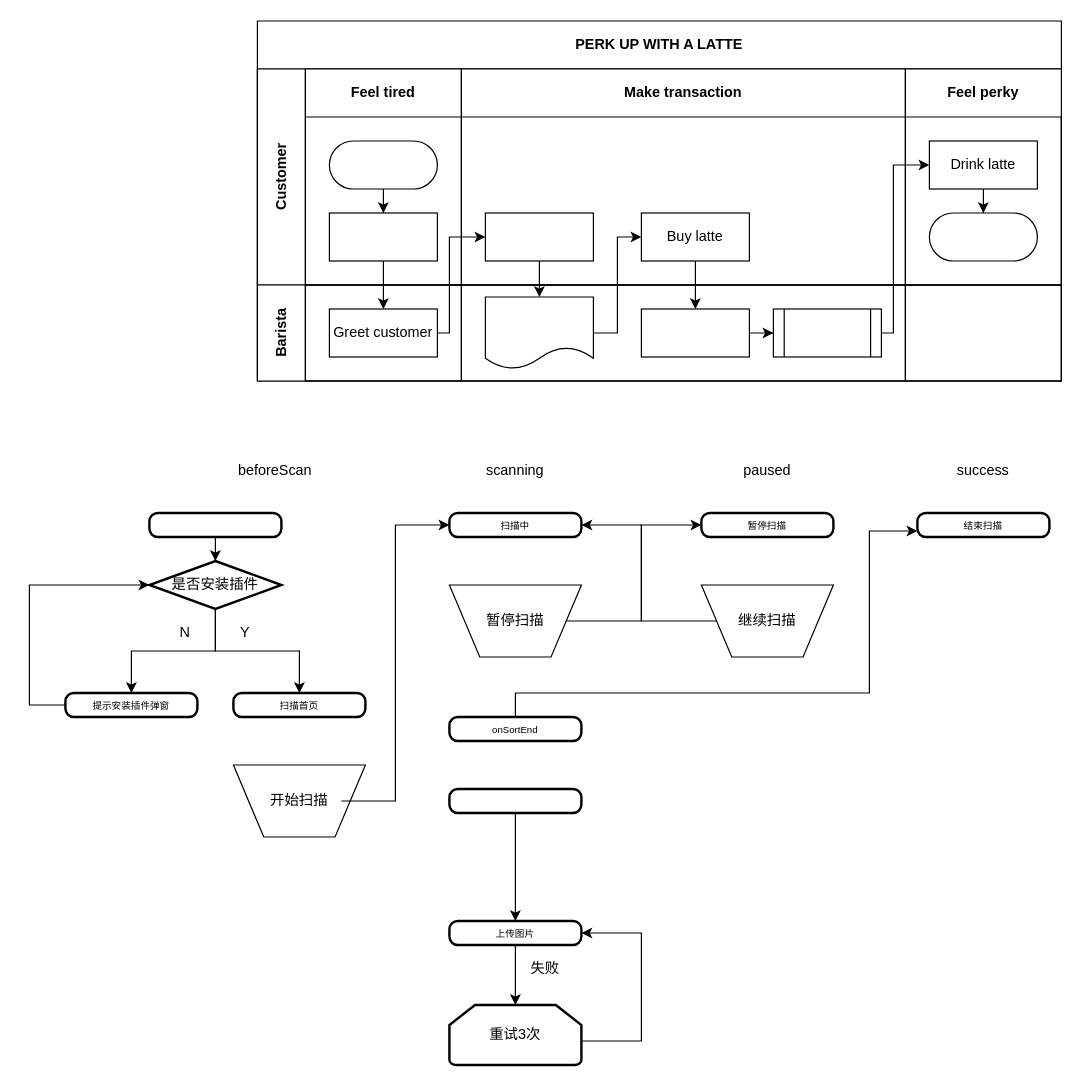
Some shapes in this 1082 by 1087 pixel diagram are drawn without their labels. The centre of each missing label's shape, as x and y in pixels:
"Accept payment" goes at (x=694, y=332).
"End" goes at (x=982, y=236).
"Find barista" goes at (x=382, y=236).
"Make latte" goes at (x=826, y=332).
"onTosSuccess" goes at (x=515, y=800).
"Request latte" goes at (x=538, y=236).
"Start" goes at (x=382, y=164).
"Write details on cup" goes at (x=538, y=332).
"进入扫描页" goes at (x=215, y=524).
